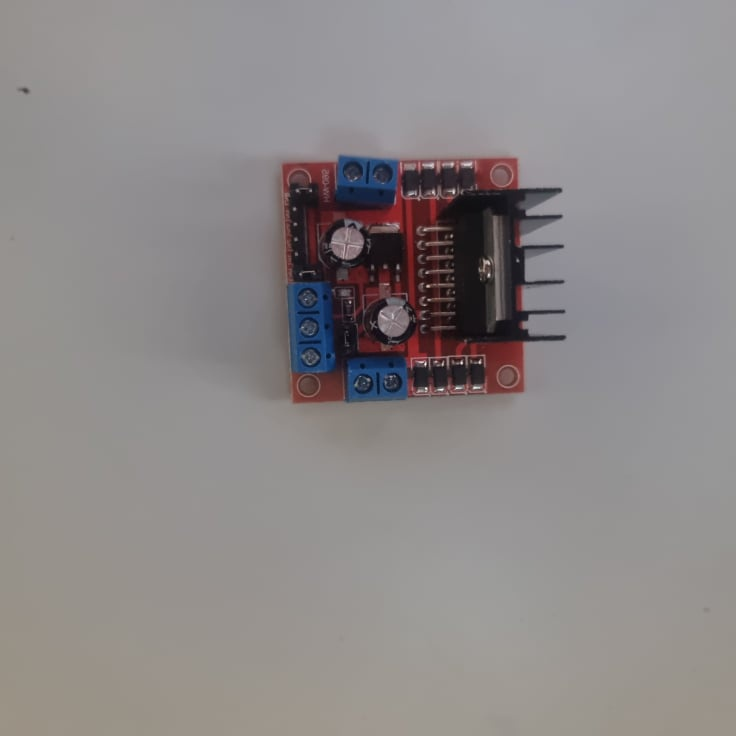MOTOR: (287, 155, 562, 406)
